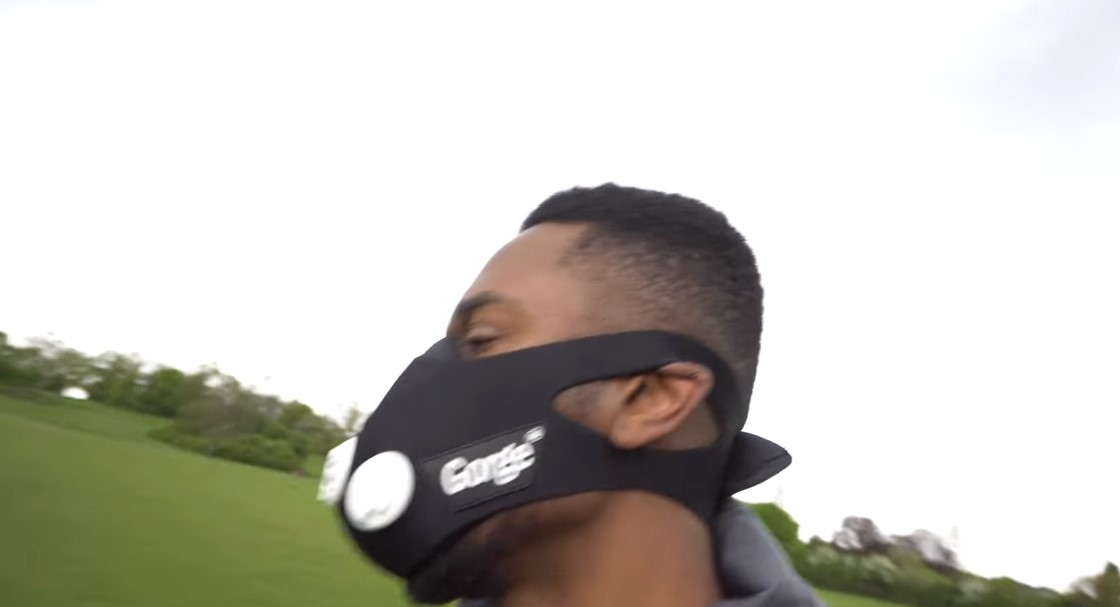face_with_mask: (312, 187, 763, 583)
